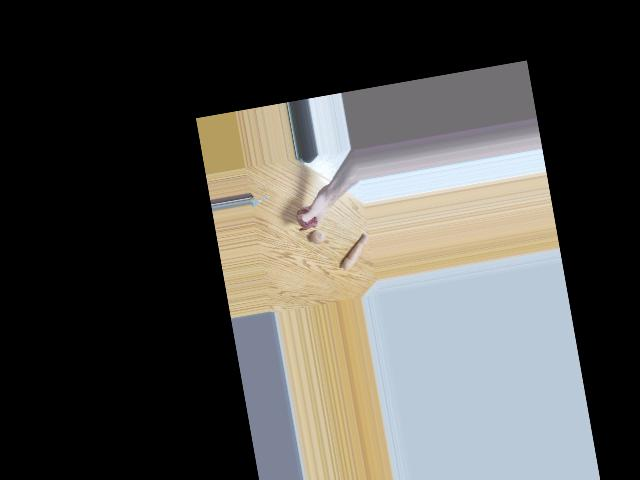onion: (297, 207, 320, 230)
